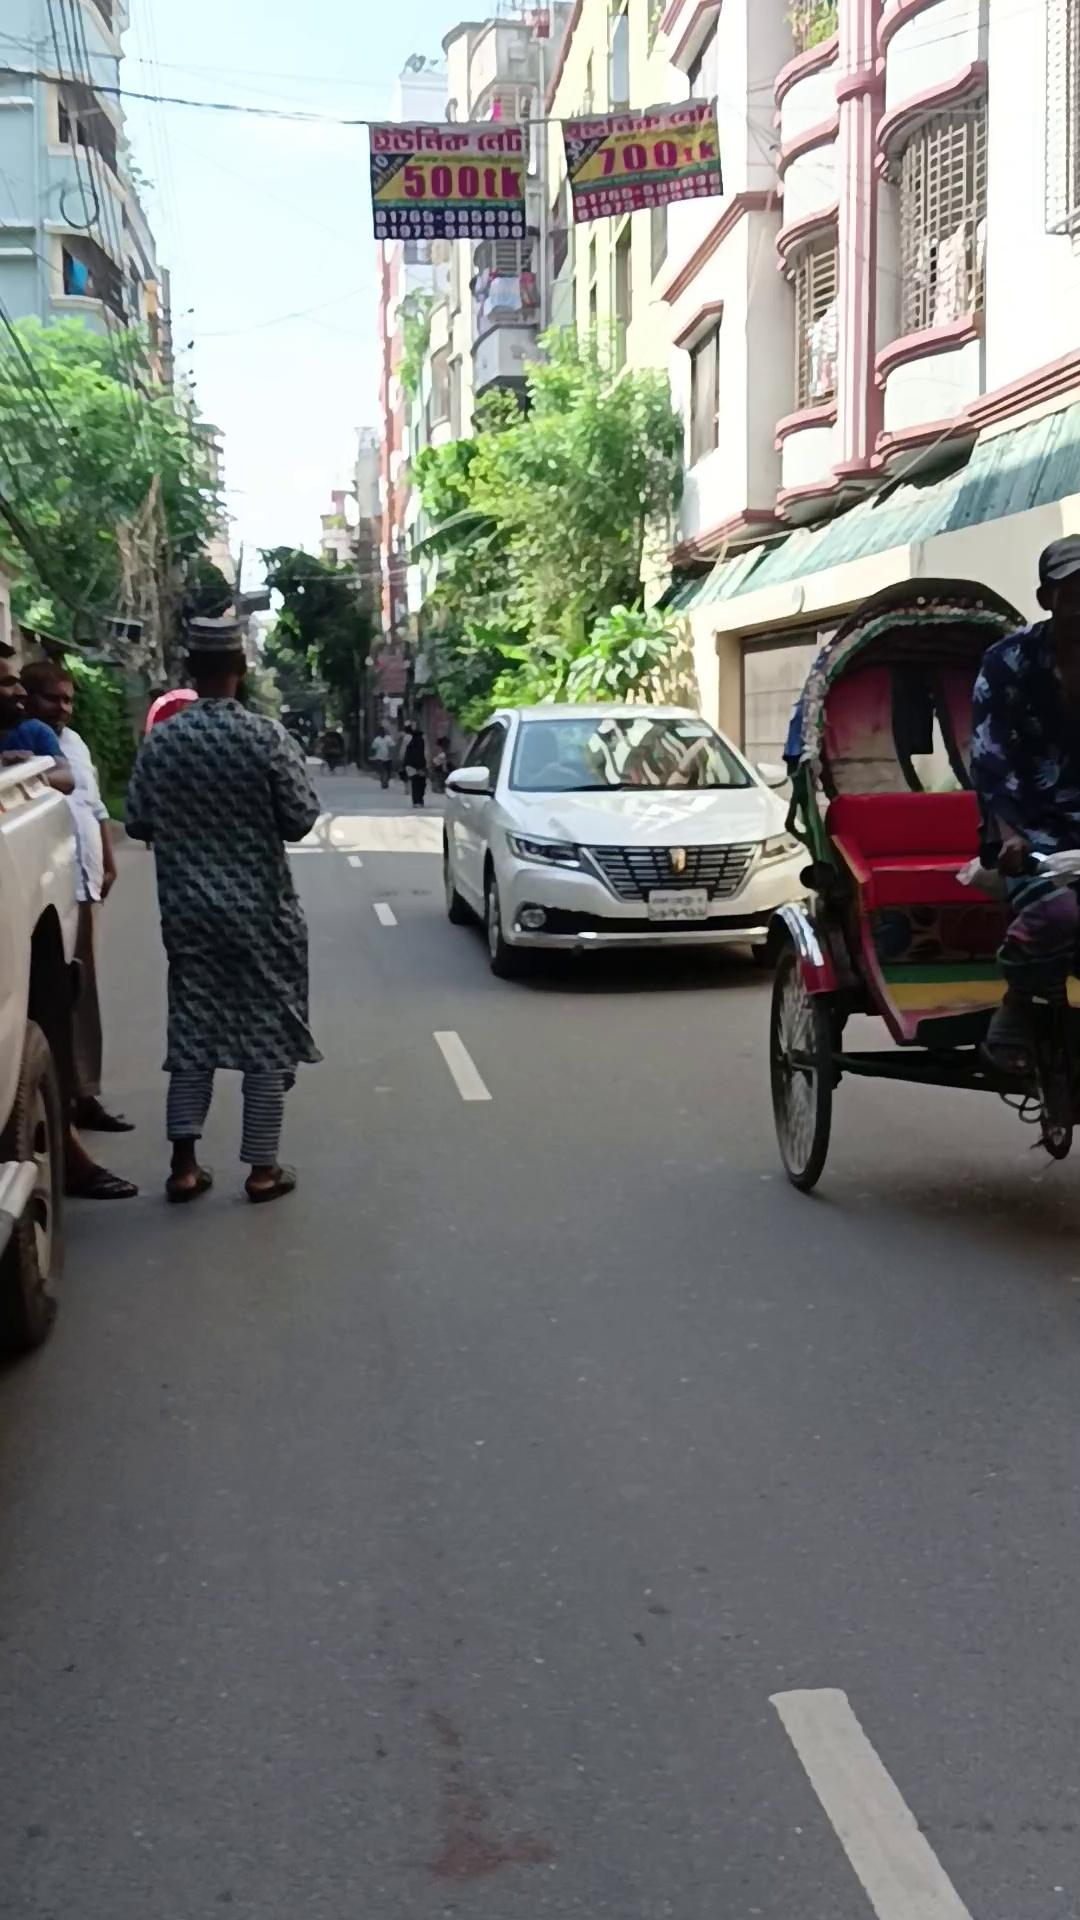Bollard: (440, 702, 816, 978), (0, 750, 87, 1356)
Curb: (123, 608, 324, 1204), (967, 533, 1079, 1087)
Fence: (764, 574, 1077, 1193)
Light-pole: (402, 311, 694, 752), (256, 542, 380, 769)
